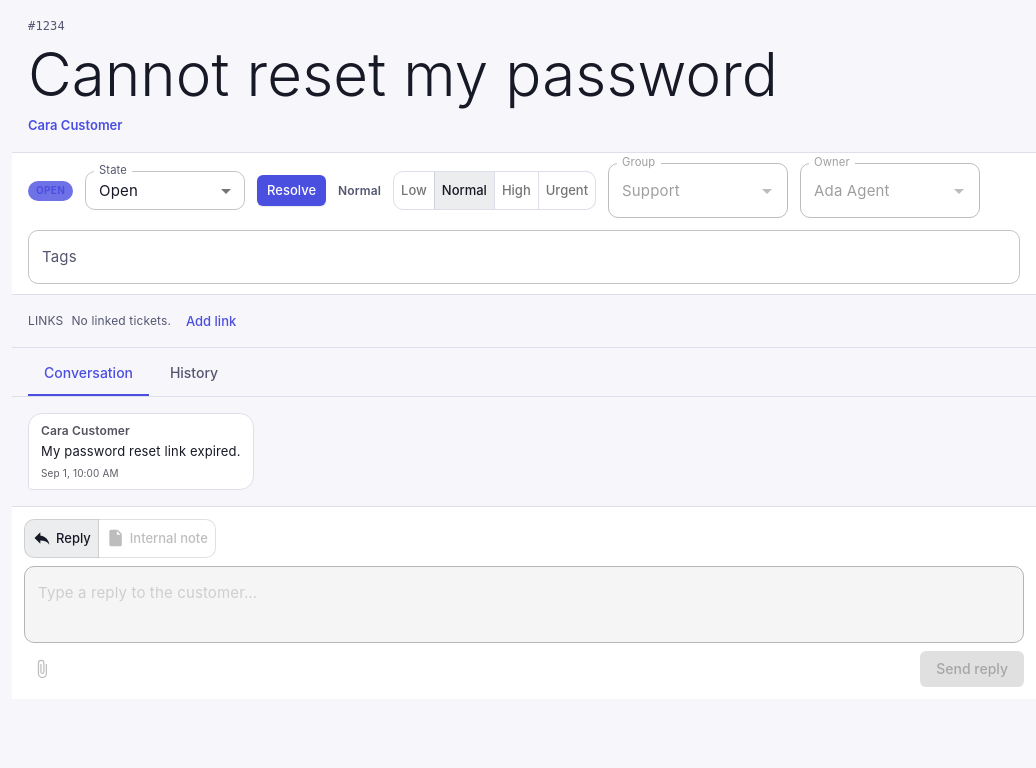
TicketFocus › shows the mapped error as a toast when resolving is rejected (409)
The image size is (1036, 768).
Step 1. Click the button "Resolve" → (292, 191), box [257,175,326,206]
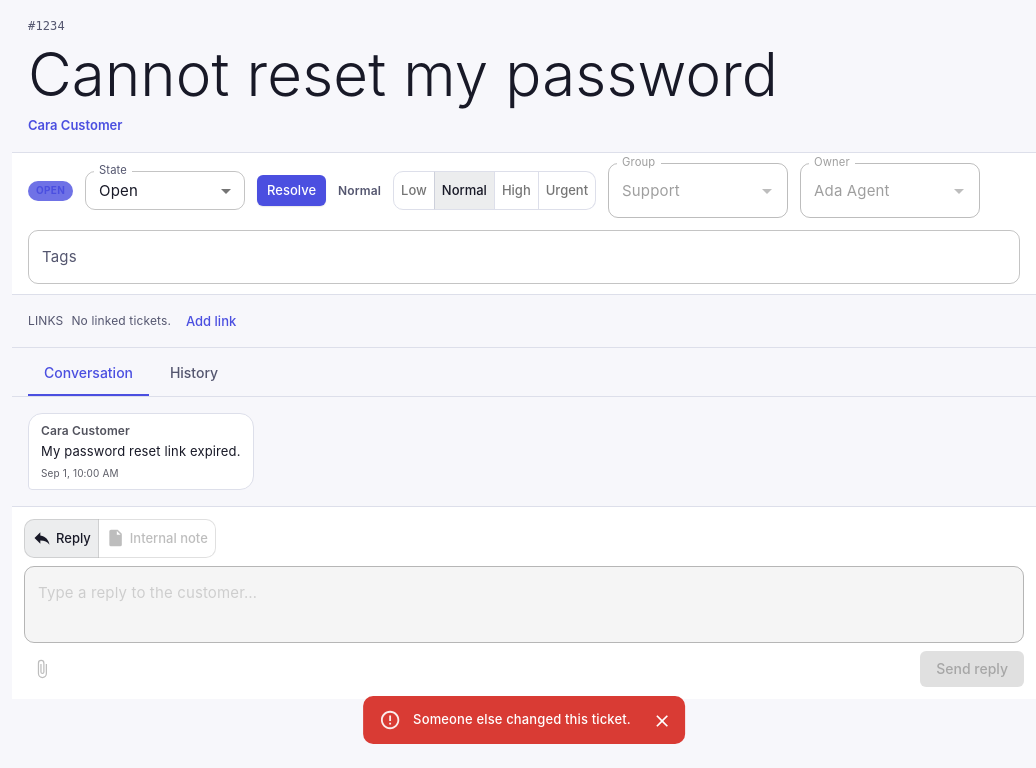
Now the 2nd text "Someone else changed this ticket." is shown, box [413,711,631,727]
